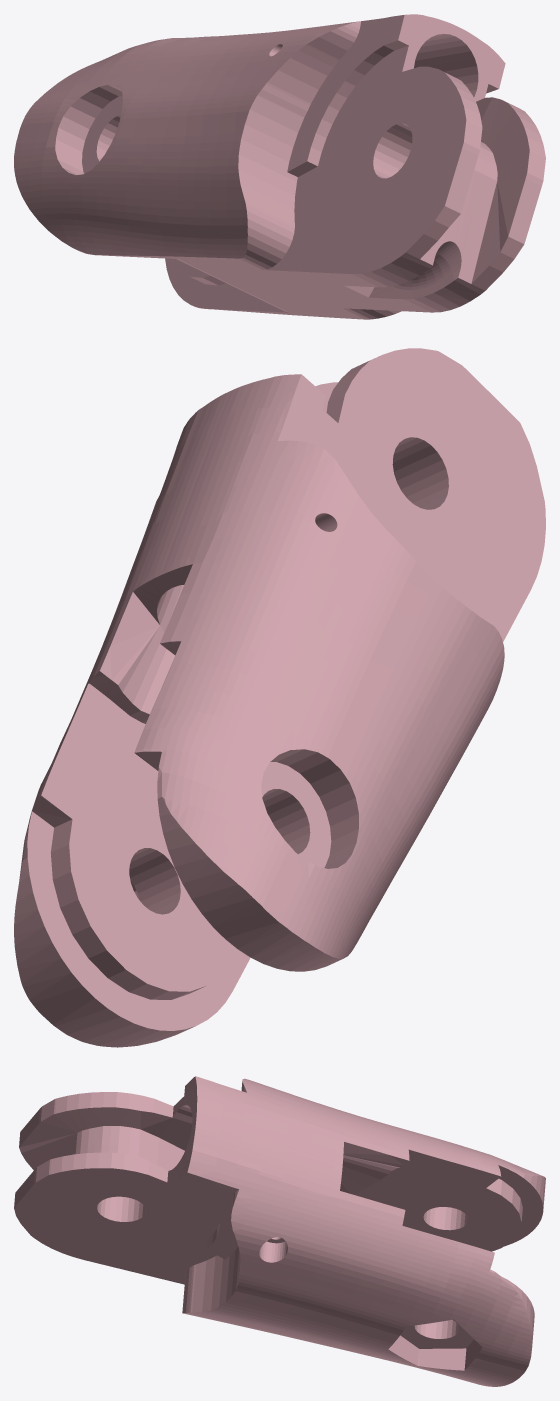
File: i02_leftHand_pinkyMid_visual.obj
3 views of the same model, one above another, from view 1: azimuth 30°, elevation 25°; view 2: azimuth 150°, elevation 25°; view 3: azimuth 270°, elevation 25° (orthographic). The views are drawn at different scales.
Visible parts, largest first — view 1: i02_leftHand_pinkyMid_visual.001; view 2: i02_leftHand_pinkyMid_visual.001; view 3: i02_leftHand_pinkyMid_visual.001.
Boxes of the visible parts, x1,y1,x2,y2 form: i02_leftHand_pinkyMid_visual.001: (14, 14, 545, 319); i02_leftHand_pinkyMid_visual.001: (14, 348, 545, 1047); i02_leftHand_pinkyMid_visual.001: (14, 1076, 545, 1386).
Size of the model in its own units: 0.2075 by 0.2597 by 0.3863.
